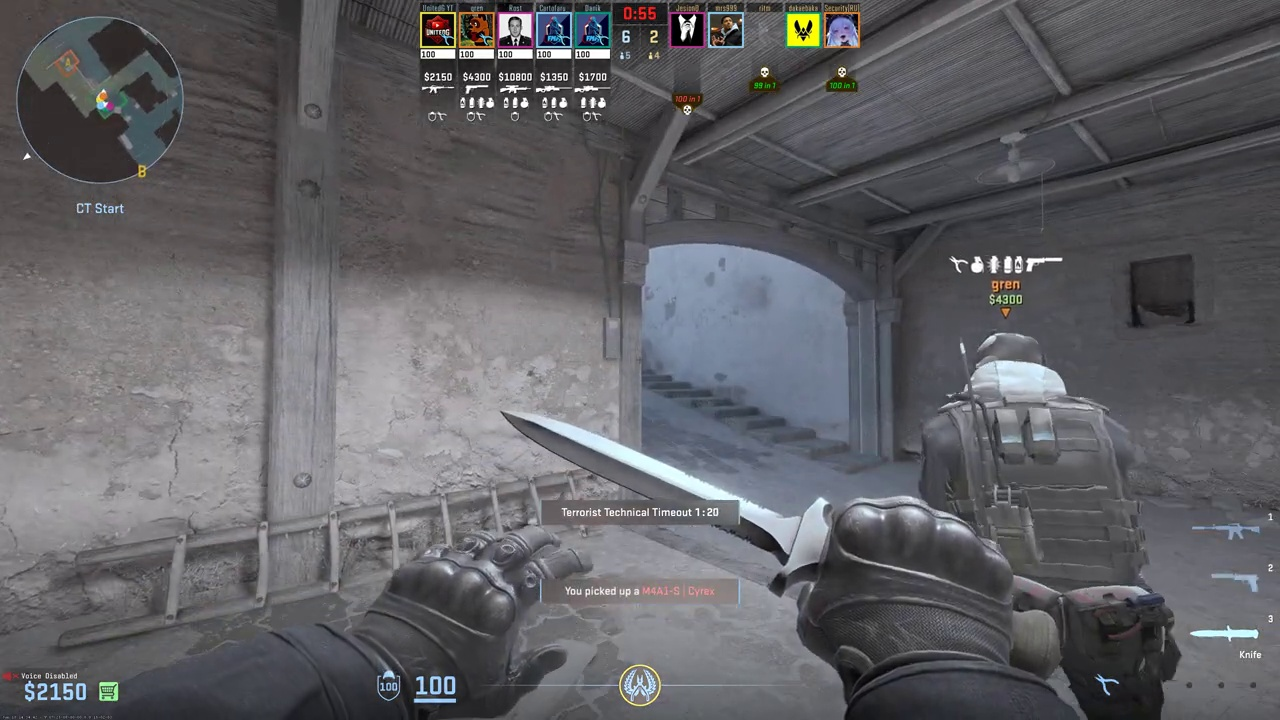CT: (924, 330, 1158, 715)
